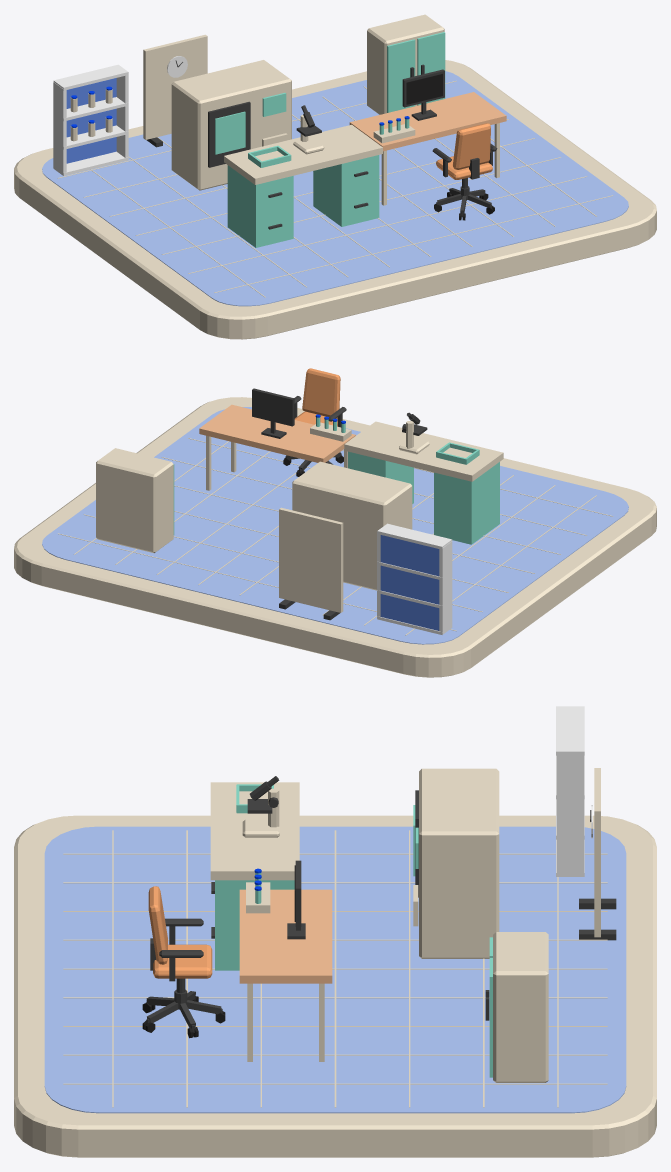
3 renders of one model, top to bottom at view 1: azimuth 30°, elevation 25°; view 2: azimuth 150°, elevation 25°; view 3: azimuth 270°, elevation 25°, orthographic. The views are drawn at different scales.
Visible parts, largest first — view 1: COM-02 Floor Surface, COM-01 Rounded Base Direct, Analysis cabinet, Top, Storage module, Worktop, Storage module.001, Panel, COM-04_Chair_blender_direct, Equipment case, Cabinet back, Door (+14 smaller); view 2: COM-02 Floor Surface, COM-01 Rounded Base Direct, Analysis cabinet, Equipment case, Panel, Cabinet back, Top, Storage module, Worktop, COM-04_Chair_blender_direct, Frame, Clean supply cabinet side (+3 smaller); view 3: COM-02 Floor Surface, COM-01 Rounded Base Direct, Analysis cabinet, Top, Equipment case, Worktop, COM-04_Chair_blender_direct, Clean supply cabinet side.001, Storage module.001, Clean supply shelf.003, Panel, Grout X.008 (+7 smaller).
Part boxes in pixels (bbox=[...]): COM-02 Floor Surface: bbox=[42, 71, 628, 306]; COM-01 Rounded Base Direct: bbox=[14, 60, 656, 339]; Analysis cabinet: bbox=[171, 60, 291, 190]; Top: bbox=[349, 92, 506, 205]; Storage module: bbox=[227, 165, 293, 247]; Worktop: bbox=[224, 124, 382, 184]; Storage module.001: bbox=[313, 155, 379, 226]; Panel: bbox=[143, 34, 207, 139]; COM-04_Chair_blender_direct: bbox=[432, 123, 497, 220]; Equipment case: bbox=[367, 14, 444, 114]; Cabinet back: bbox=[66, 78, 116, 163]; Door: bbox=[387, 39, 415, 112]; COM-02 Floor Surface: bbox=[42, 407, 628, 644]; COM-01 Rounded Base Direct: bbox=[14, 397, 656, 677]; Analysis cabinet: bbox=[292, 461, 412, 590]; Equipment case: bbox=[96, 448, 173, 553]; Panel: bbox=[279, 507, 343, 612]; Cabinet back: bbox=[380, 535, 439, 630]; Top: bbox=[199, 404, 355, 490]; Storage module: bbox=[434, 462, 499, 544]; Worktop: bbox=[344, 421, 503, 481]; COM-04_Chair_blender_direct: bbox=[283, 368, 346, 476]; Frame: bbox=[252, 388, 294, 438]; Clean supply cabinet side: bbox=[439, 541, 452, 634]; COM-02 Floor Surface: bbox=[44, 826, 626, 1113]; COM-01 Rounded Base Direct: bbox=[14, 815, 656, 1157]; Analysis cabinet: bbox=[419, 768, 499, 958]; Top: bbox=[239, 889, 332, 1061]; Equipment case: bbox=[493, 932, 548, 1082]; Worktop: bbox=[210, 782, 299, 880]; COM-04_Chair_blender_direct: bbox=[142, 886, 225, 1038]; Clean supply cabinet side.001: bbox=[556, 753, 584, 876]; Storage module.001: bbox=[215, 880, 294, 970]; Clean supply shelf.003: bbox=[556, 706, 584, 755]; Panel: bbox=[594, 768, 600, 937]; Grout X.008: bbox=[63, 1083, 607, 1084].
Size of the model in its own units: 6 by 1.69 by 5.2.
Materials: 1 (1 with a texture image).
